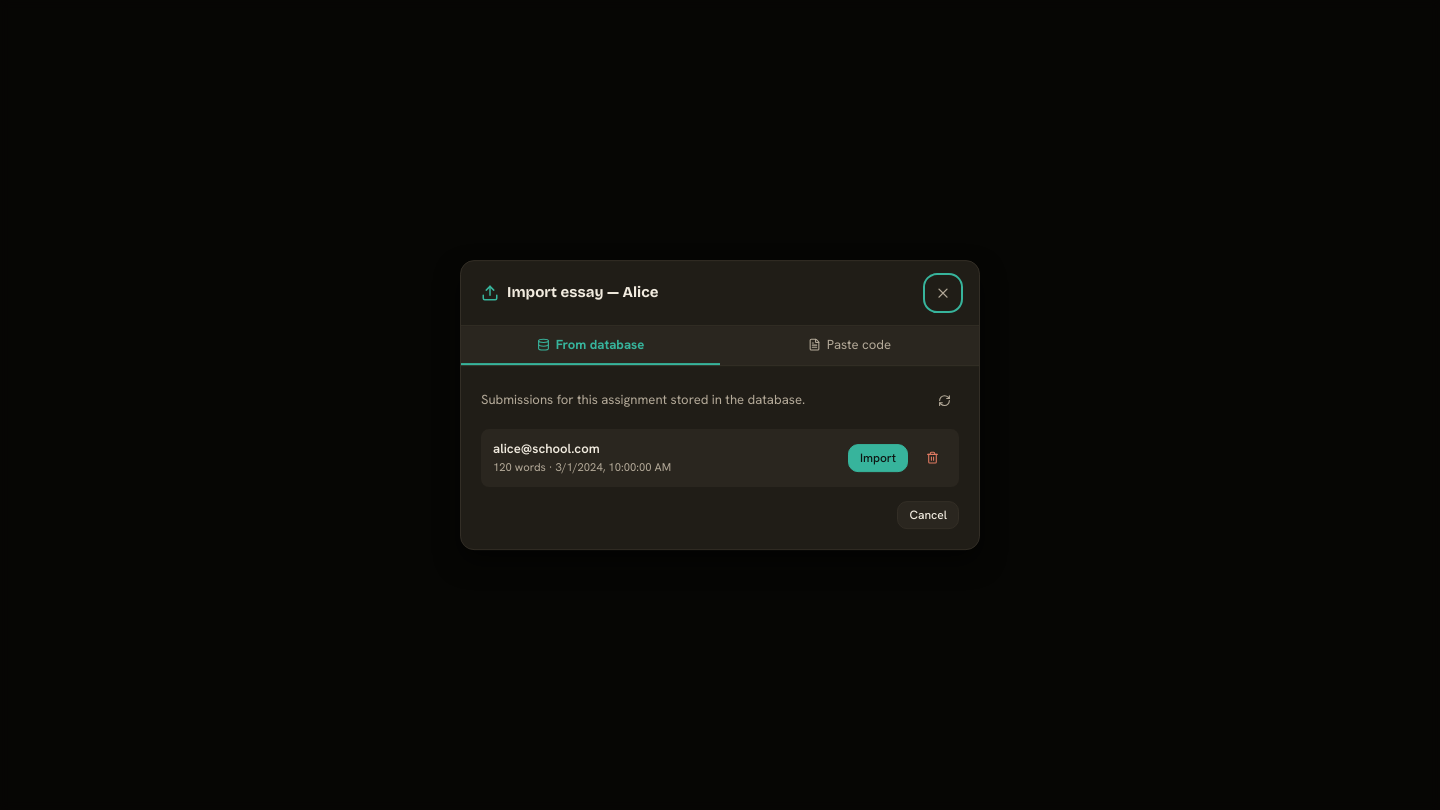
Test: EssayImportModal › database tab › switches between the database and code-paste tabs
Expected: the text "alice@school.com" is shown, [493,440,600,457]
Click the button "Paste code": point(850, 346) [720,326,979,365]
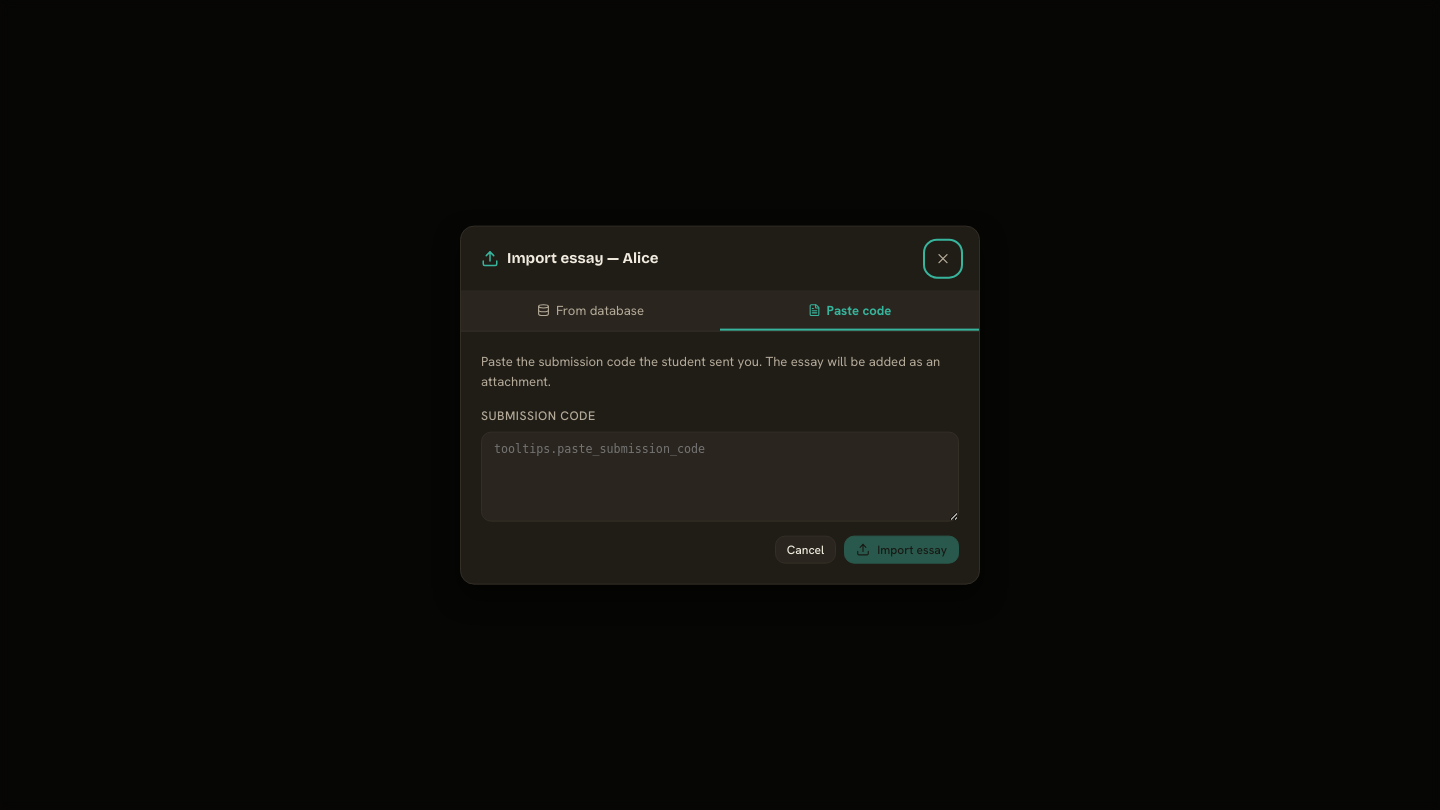
Result: the text box with placeholder "tooltips.paste_submission_code" is shown at [481,431,959,521]
Click the button "From database": point(590, 311) [461,292,720,331]
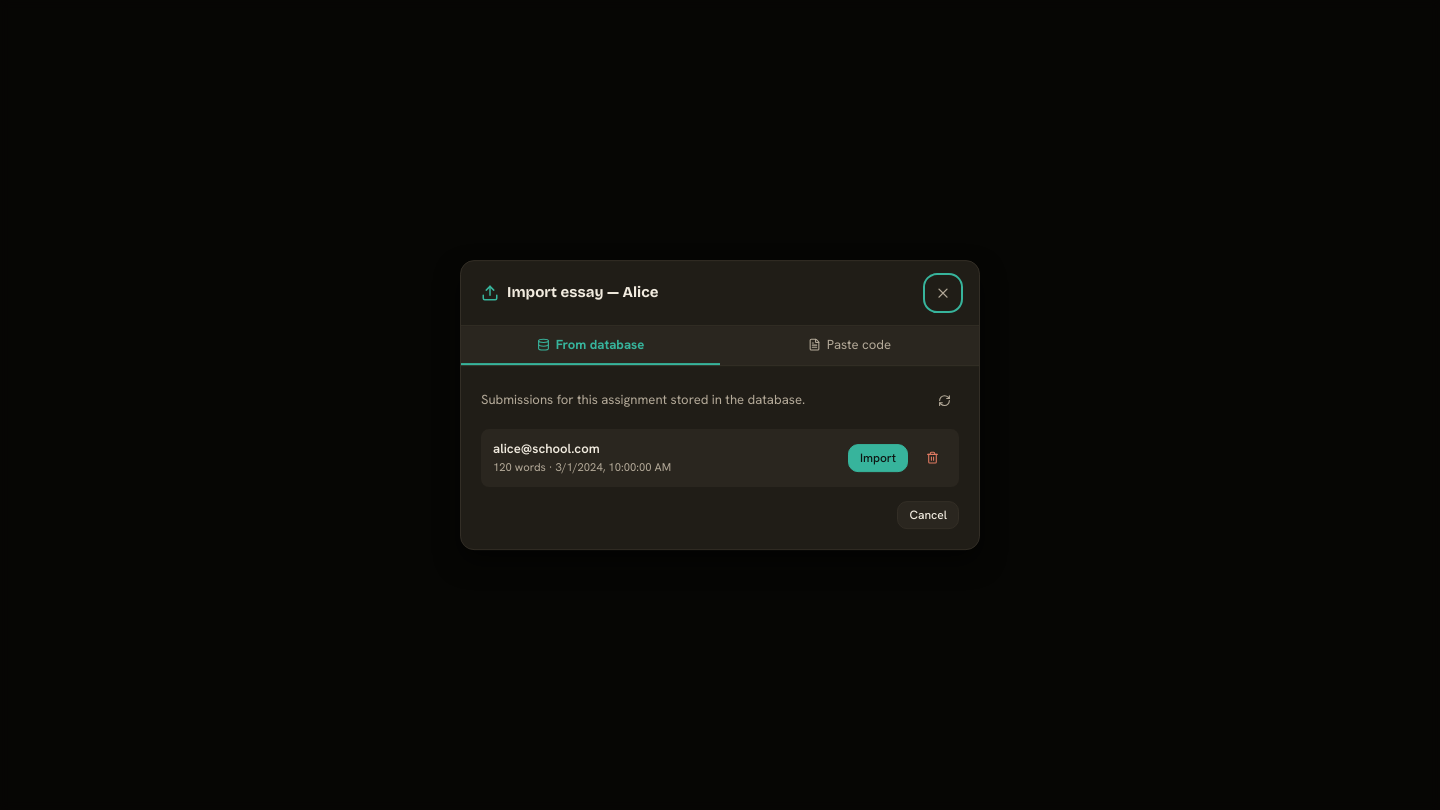
Result: the text "alice@school.com" is shown at [493,440,600,457]
